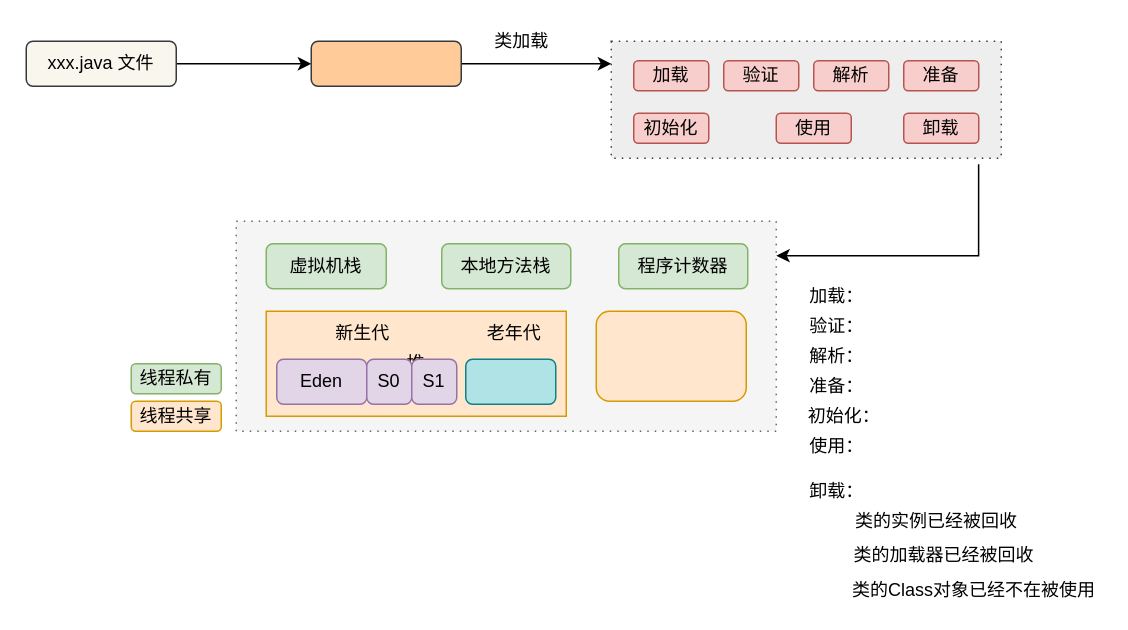
This 1128x630 diagram has some shape labels left out. Here are the shapes that lost their labels. From the top down, the centre of each, then its label:
At point (385, 63): "xxx.class 文件".
At point (670, 355): "元空间".
